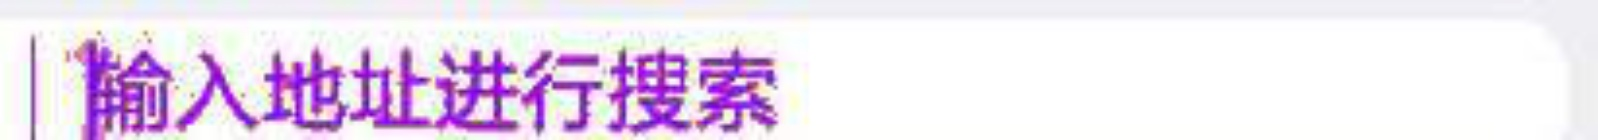EditText: (1, 1, 1597, 139)
